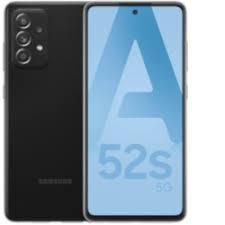Smartphone: (83, 5, 182, 223), (8, 6, 81, 217)
